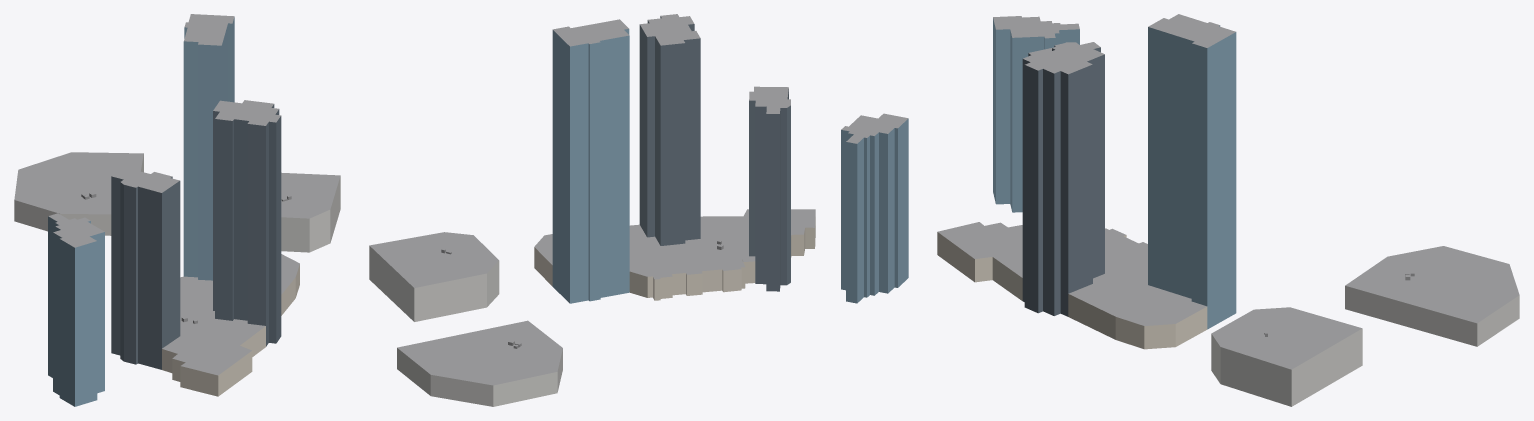
File: building_0_5.glb
3 views of the same model, side by side, from view 1: azimuth 30°, elevation 25°; view 2: azimuth 150°, elevation 25°; view 3: azimuth 270°, elevation 25° (orthographic). The views are drawn at different scales.
Visible parts, largest first — view 1: glass_dark, roof, glass_blue, concrete_light, concrete_warm; view 2: glass_blue, roof, glass_dark, concrete_light, concrete_warm; view 3: glass_blue, roof, glass_dark, concrete_light, concrete_warm.
Part boxes in pixels (left/top/right/bottom): glass_dark: left=111, top=104, right=281, bottom=369; roof: left=14, top=14, right=340, bottom=375; glass_blue: left=48, top=17, right=234, bottom=406; concrete_light: left=14, top=153, right=340, bottom=252; concrete_warm: left=162, top=264, right=299, bottom=396; glass_blue: left=552, top=29, right=908, bottom=303; roof: left=369, top=14, right=907, bottom=385; glass_dark: left=639, top=16, right=790, bottom=291; concrete_light: left=369, top=246, right=562, bottom=406; concrete_warm: left=534, top=217, right=815, bottom=300; glass_blue: left=993, top=18, right=1236, bottom=329; roof: left=937, top=14, right=1519, bottom=369; glass_dark: left=1022, top=45, right=1104, bottom=316; concrete_light: left=1211, top=286, right=1519, bottom=406; concrete_warm: left=937, top=232, right=1207, bottom=349.
Bounding box in the file's own units: 239 × 145 × 272.
